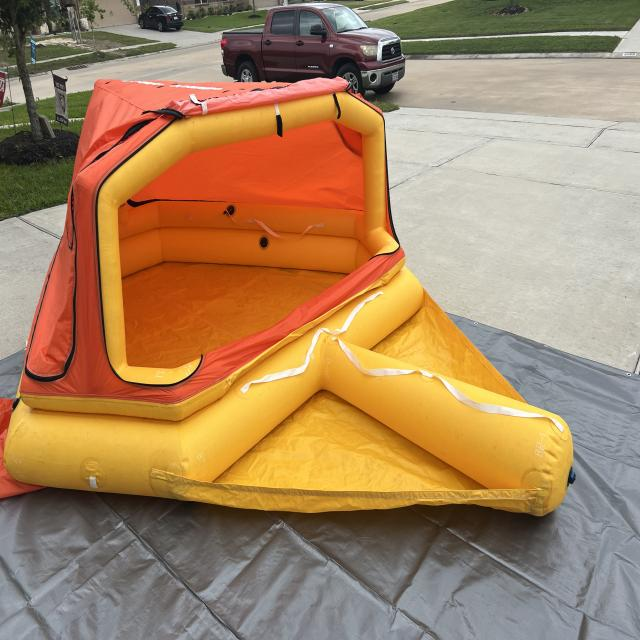Multi-person_life_raft: (0, 78, 574, 516)
